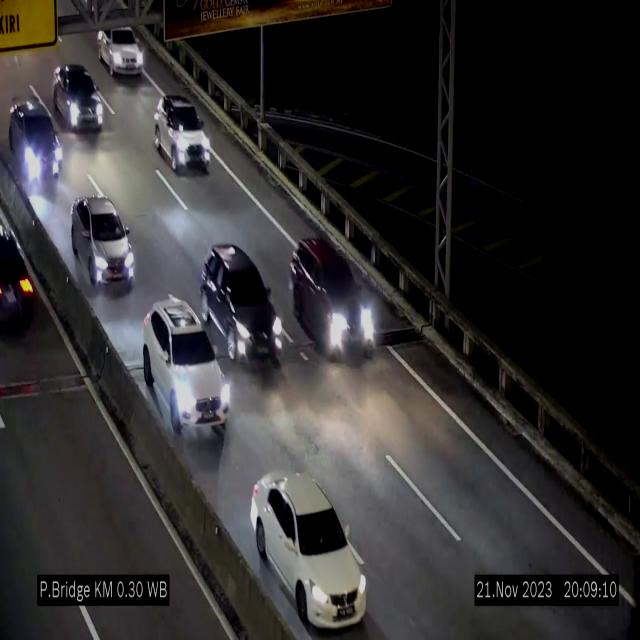Car: (251, 472, 366, 633), (142, 298, 232, 442), (288, 236, 370, 362), (202, 243, 280, 364), (71, 195, 135, 289), (7, 94, 62, 186), (50, 55, 106, 137), (0, 217, 38, 333), (154, 95, 210, 172), (97, 26, 144, 76)
